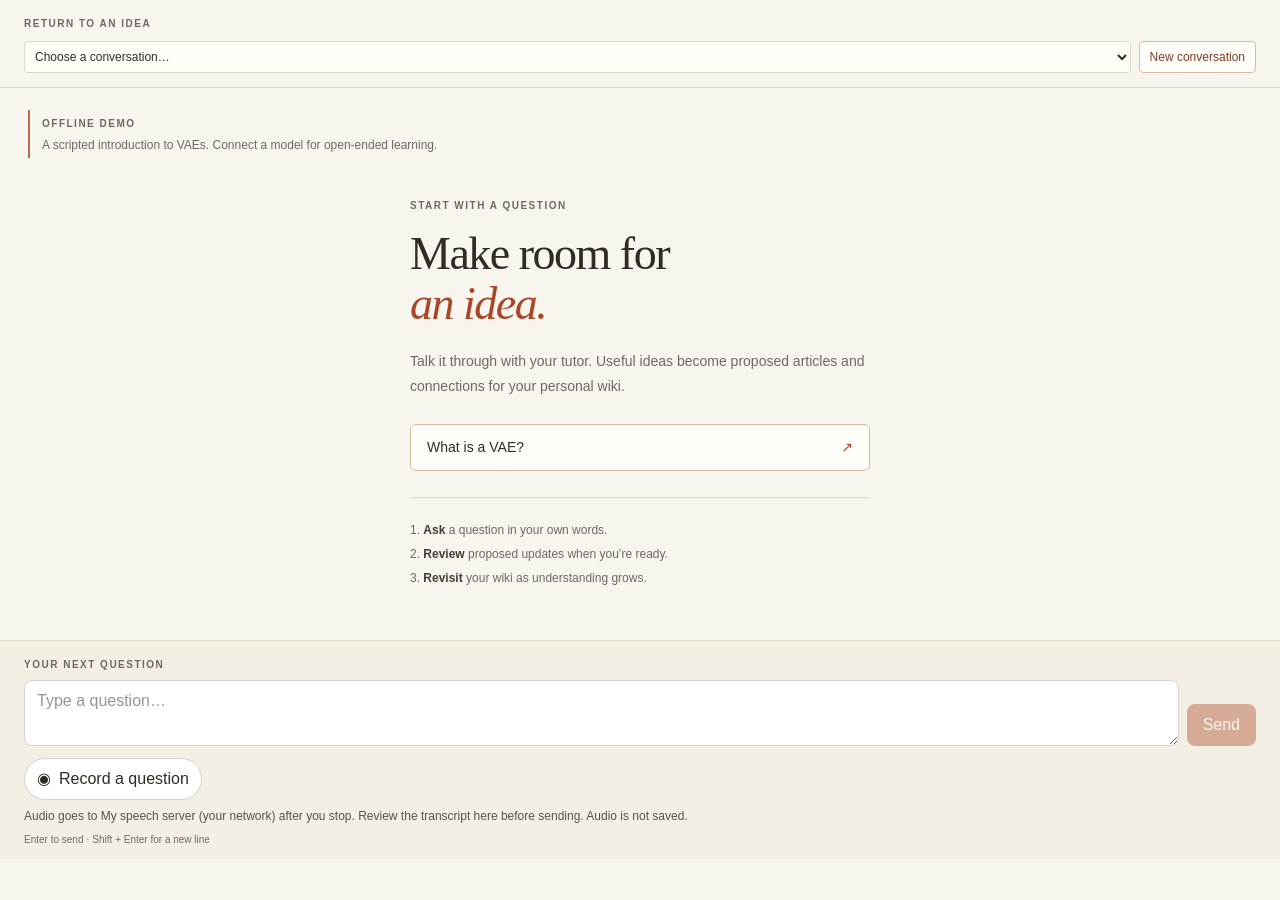
Test: unmount stops an active microphone and a failed cancellation stays visibly locked
The image size is (1280, 900).
Step 1. Click the button "◉ Record a question" → (113,779), box [24,758,202,800]
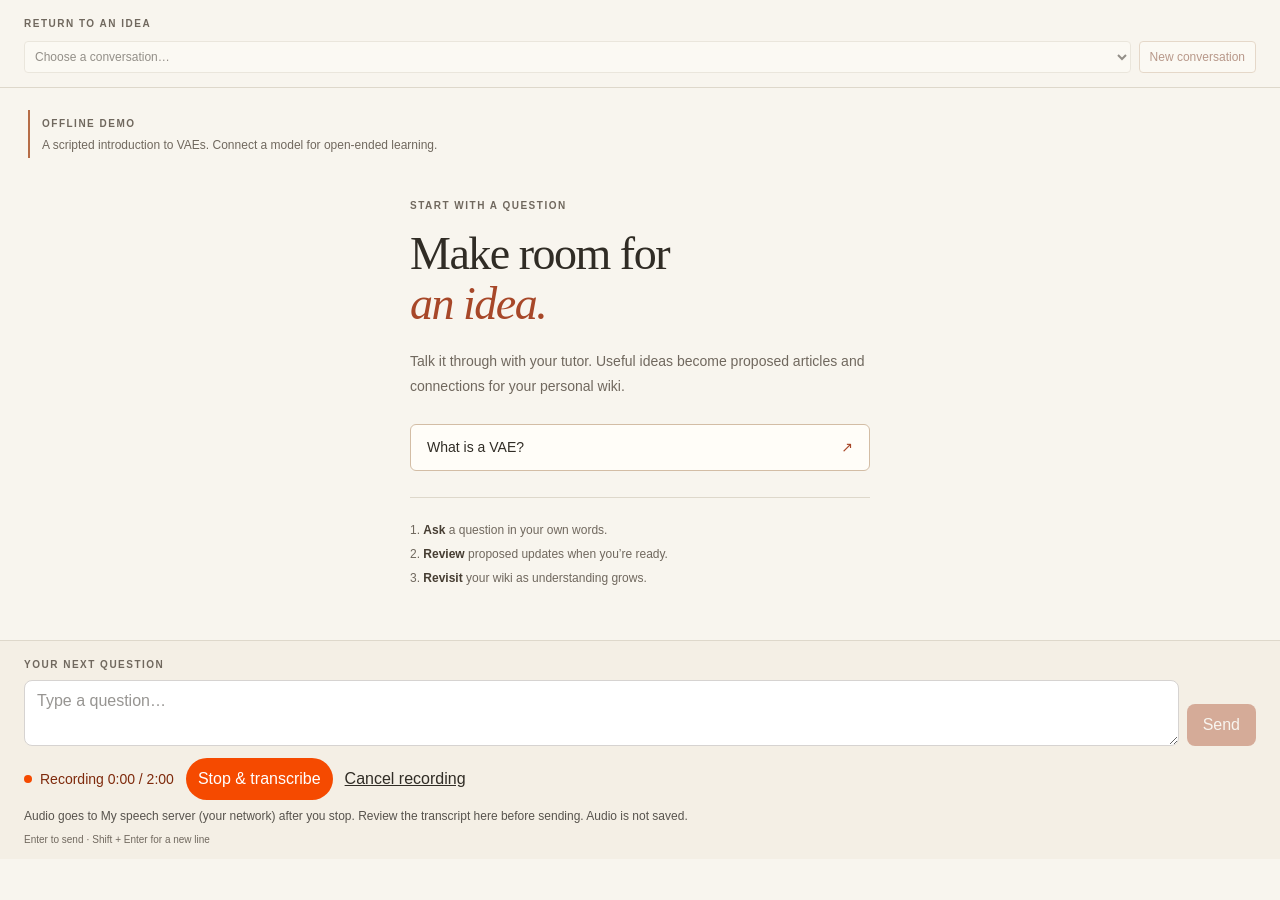
Expected: the button "Stop & transcribe" is shown, [186,758,333,800]
Step 2. Click the button "Cancel recording" → (405,779), box [345,758,466,800]
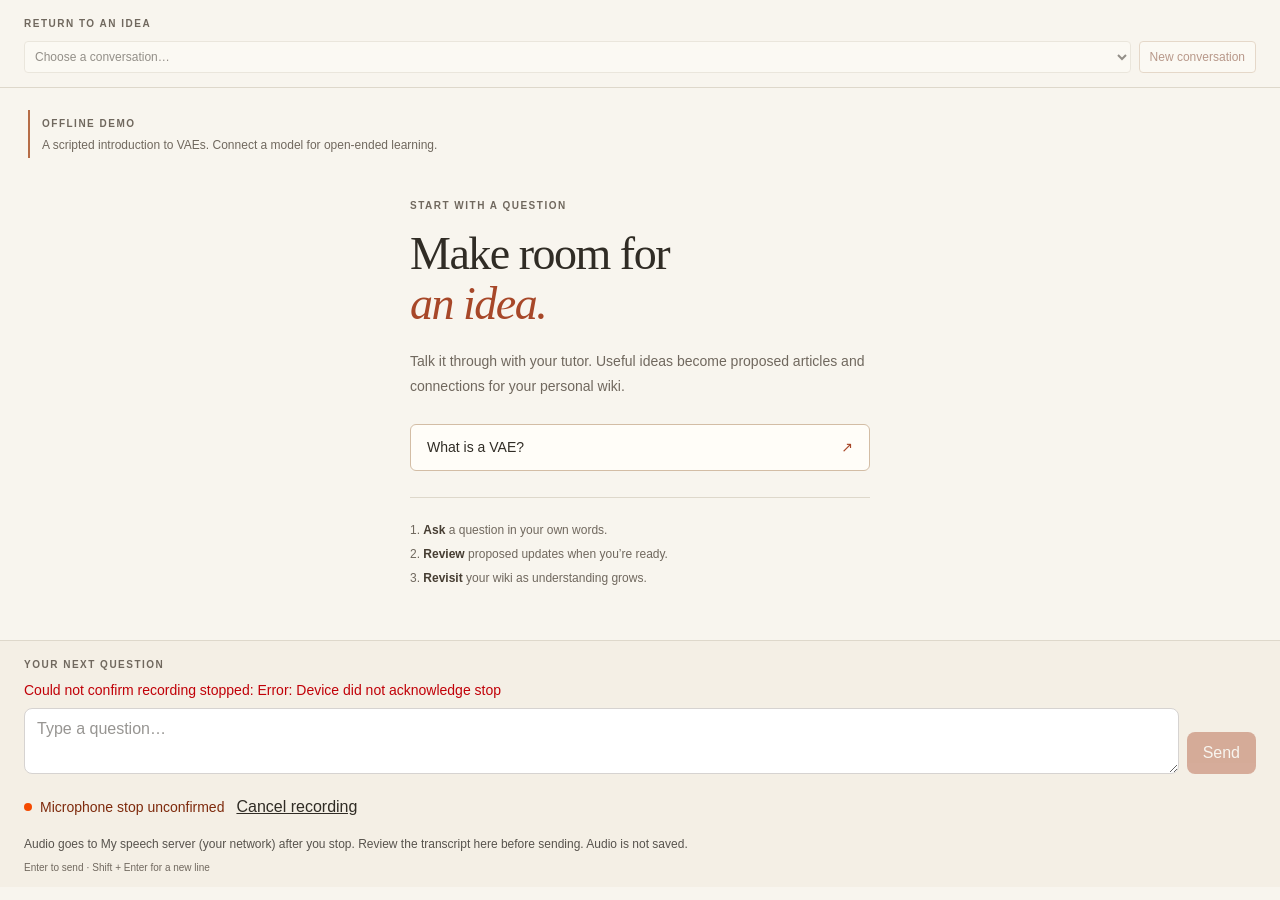
Expected: the button "New conversation" is disabled, [1139,41,1256,73]
Expected: the message "Could not confirm recording stopped: Error: Device did not acknowledge stop" is shown, [24,682,501,698]
Expected: the text "Microphone stop unconfirmed" is shown, [24,797,224,817]
